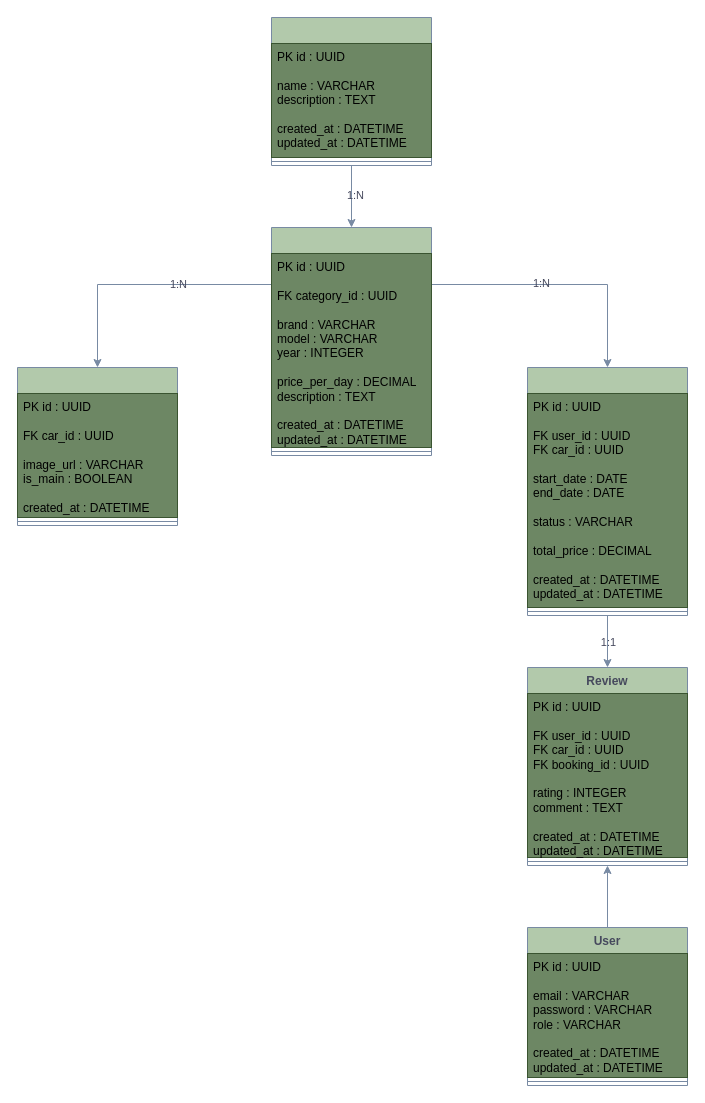
The diagram is 705 pixels wide and 1103 high, and some of its shapes have lost their labels. Each missing label, with the box of its shape:
Booking: (526, 366, 688, 616)
Car: (270, 226, 432, 456)
CarImage: (16, 366, 178, 526)
Category: (270, 16, 432, 166)
